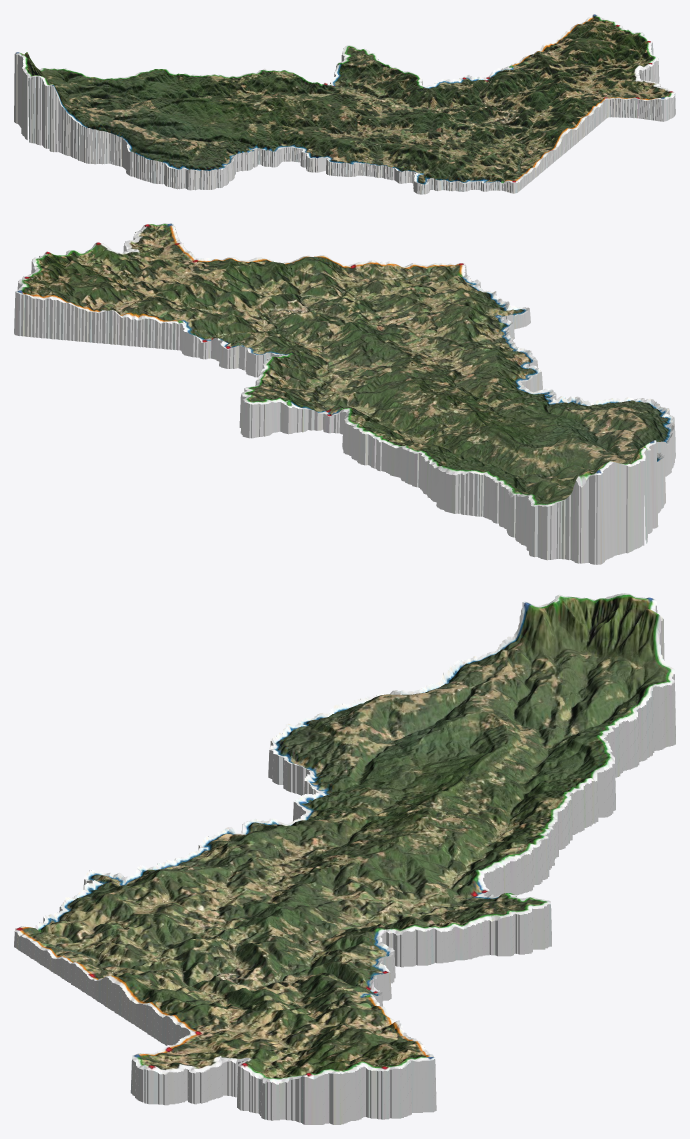
3 renders of one model, top to bottom at view 1: azimuth 30°, elevation 25°; view 2: azimuth 150°, elevation 25°; view 3: azimuth 270°, elevation 25°, orthographic. The views are drawn at different scales.
Bounding box in the file's own units: 1 × 0.126 × 0.6583.
1 material, 1 textured.
